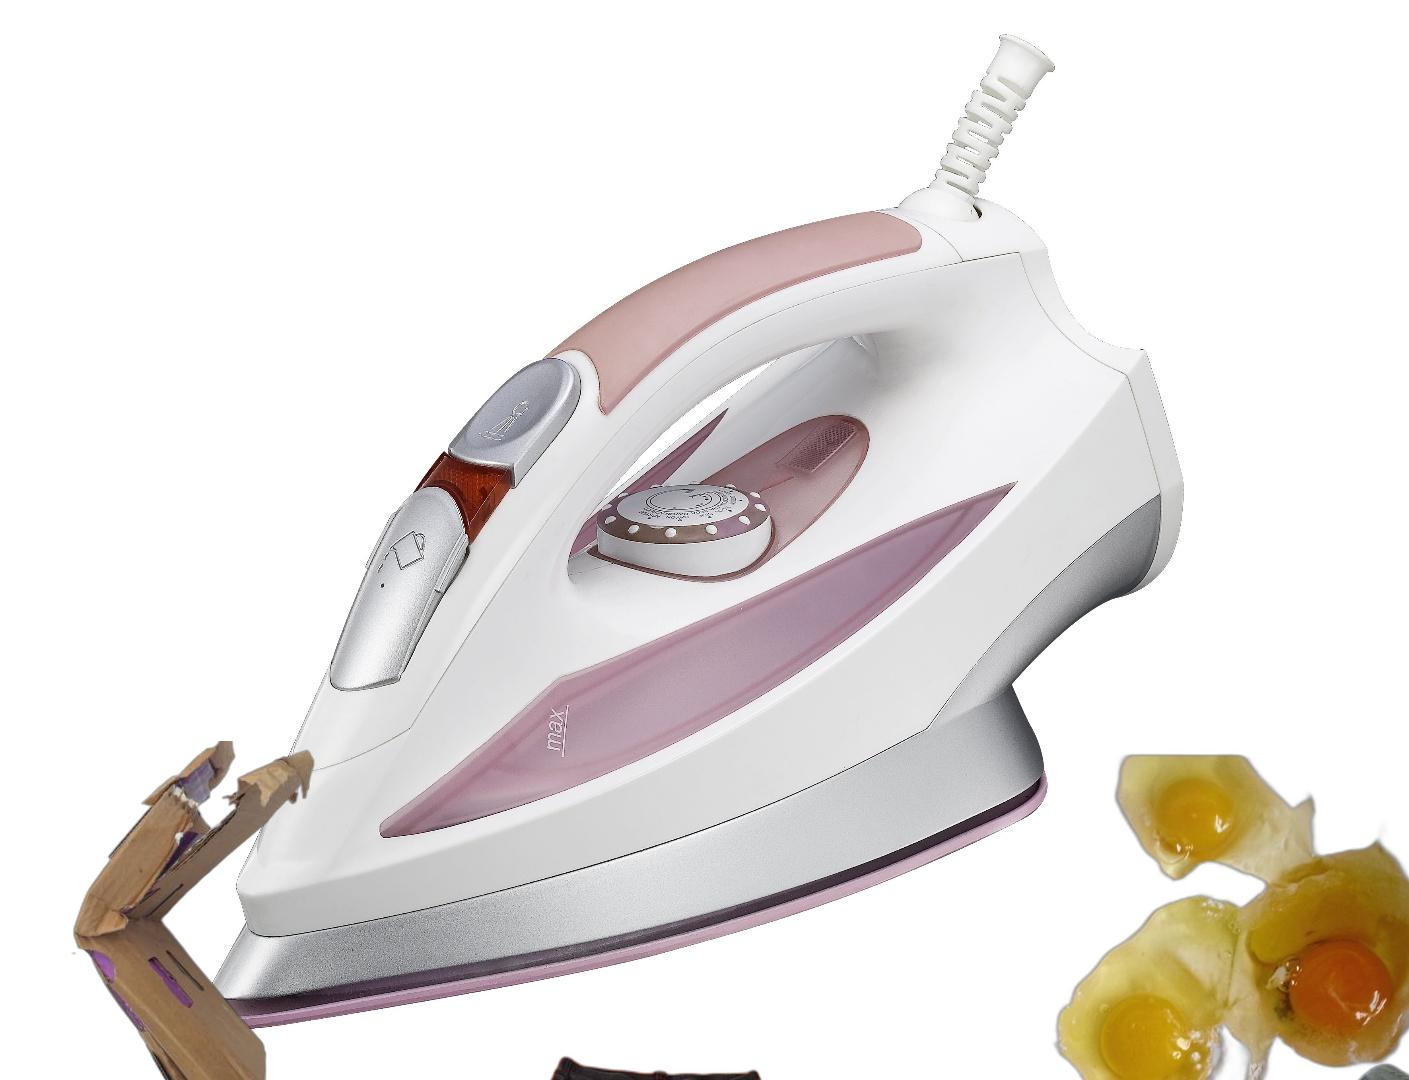biological: (1051, 749, 1409, 1080)
clothes: (474, 1053, 849, 1080)
glass: (1245, 1062, 1409, 1080)
trashbox-cardboard: (69, 741, 318, 1080)
